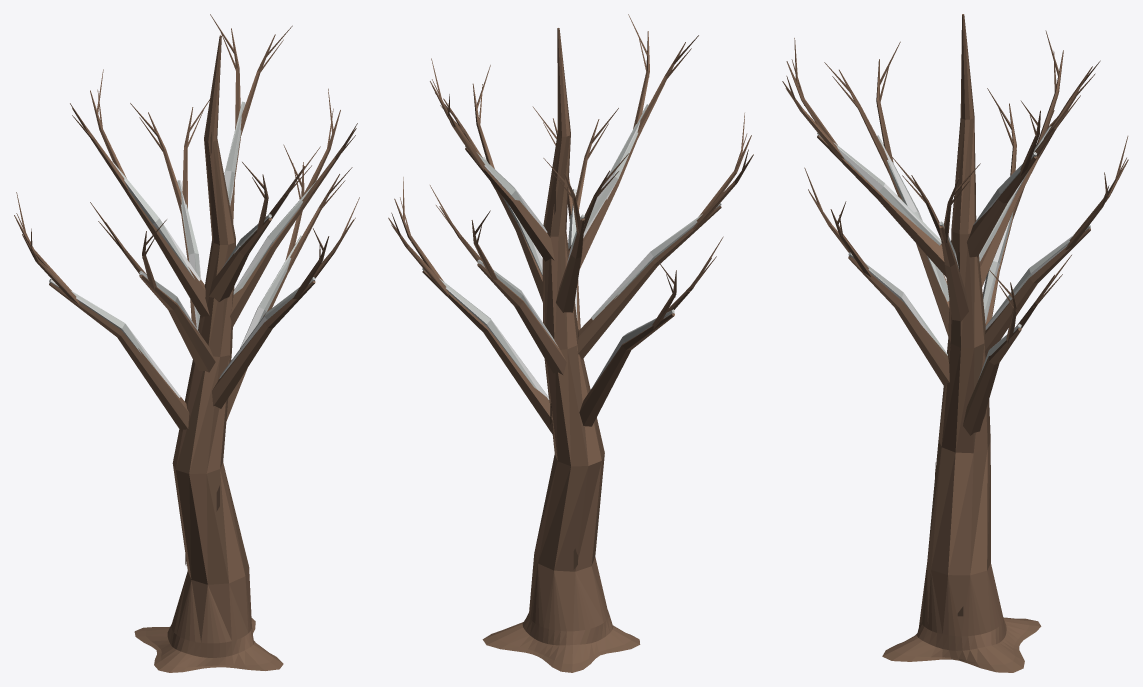
The model's file is maple_winter.glb.
3 renders of one model, left to right at view 1: azimuth 30°, elevation 25°; view 2: azimuth 150°, elevation 25°; view 3: azimuth 270°, elevation 25°, orthographic. The views are drawn at different scales.
Parts seen in each view (by area): view 1: branches, snow; view 2: branches, snow; view 3: branches, snow.
Part boxes in pixels (x1,y1,x2,y2): branches: [14, 14, 359, 672]; snow: [49, 101, 316, 397]; branches: [388, 14, 753, 672]; snow: [422, 104, 721, 399]; branches: [782, 14, 1128, 672]; snow: [817, 126, 1090, 379].
Bounding box in the file's own units: 2.44 × 4.42 × 2.2.
